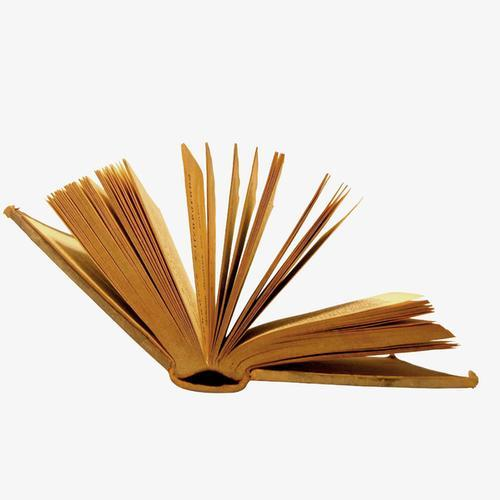book: (1, 135, 487, 438)
